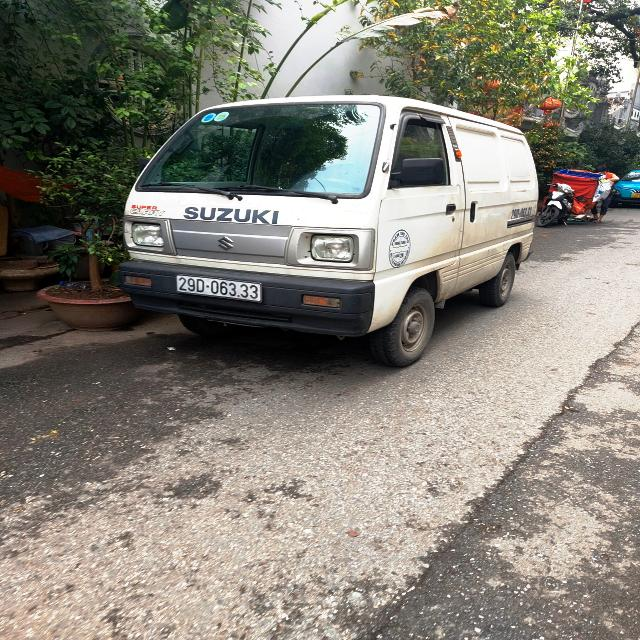license_plate: (177, 276, 263, 305)
